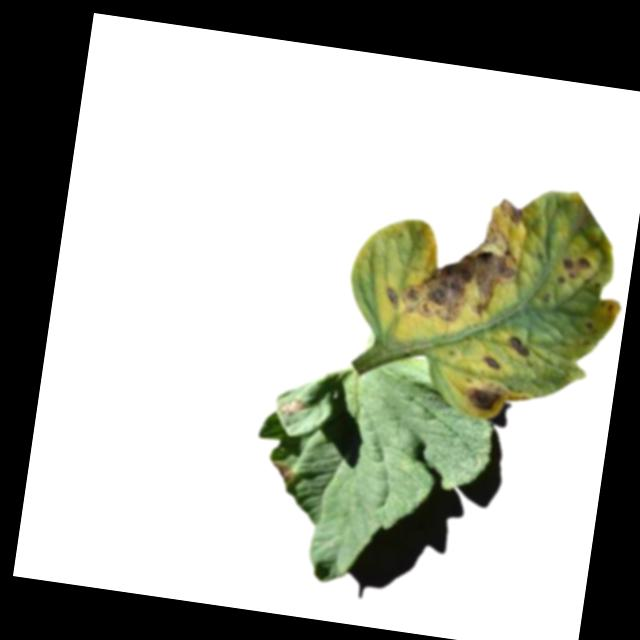Early_blight: (379, 183, 533, 337), (463, 382, 510, 416), (555, 254, 592, 289), (269, 460, 299, 487), (277, 398, 308, 420), (507, 336, 531, 362), (483, 356, 503, 376)
